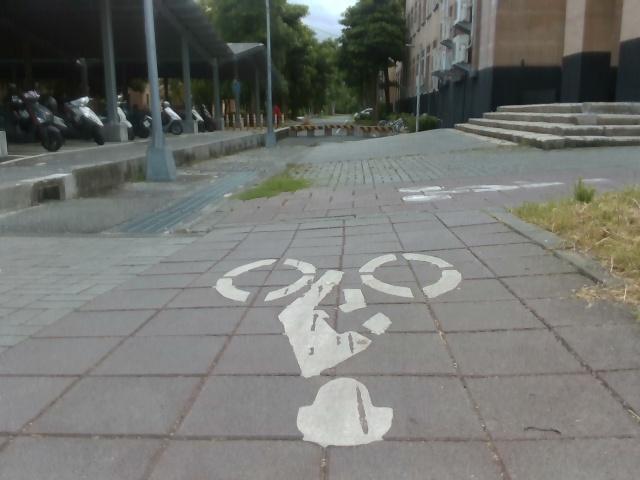grass: (132, 0, 437, 133), (493, 180, 639, 291)
road: (0, 132, 639, 479)
sidewalk: (0, 143, 129, 195)
